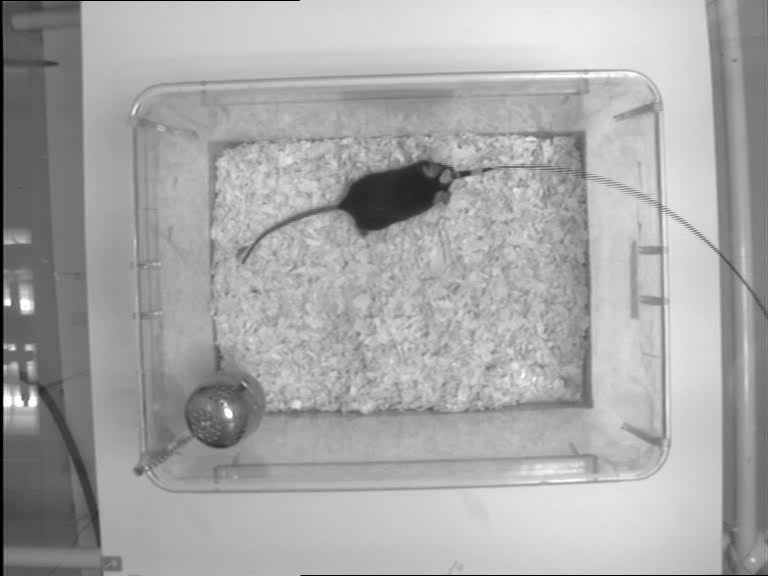mice: (240, 160, 460, 268)
